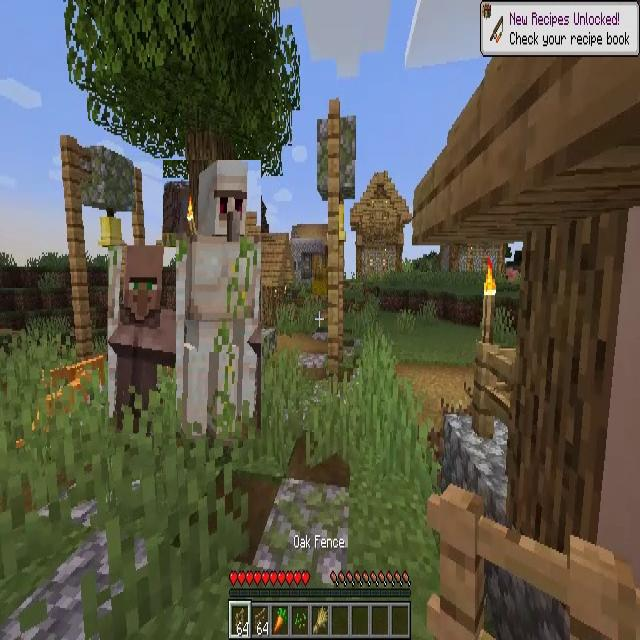people: (163, 160, 261, 439), (108, 246, 176, 433)
